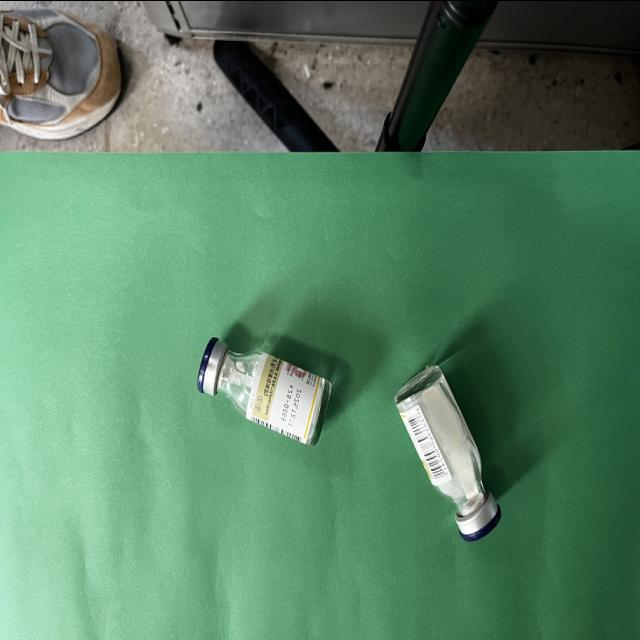Vials: (394, 364, 501, 540), (198, 336, 332, 445)
